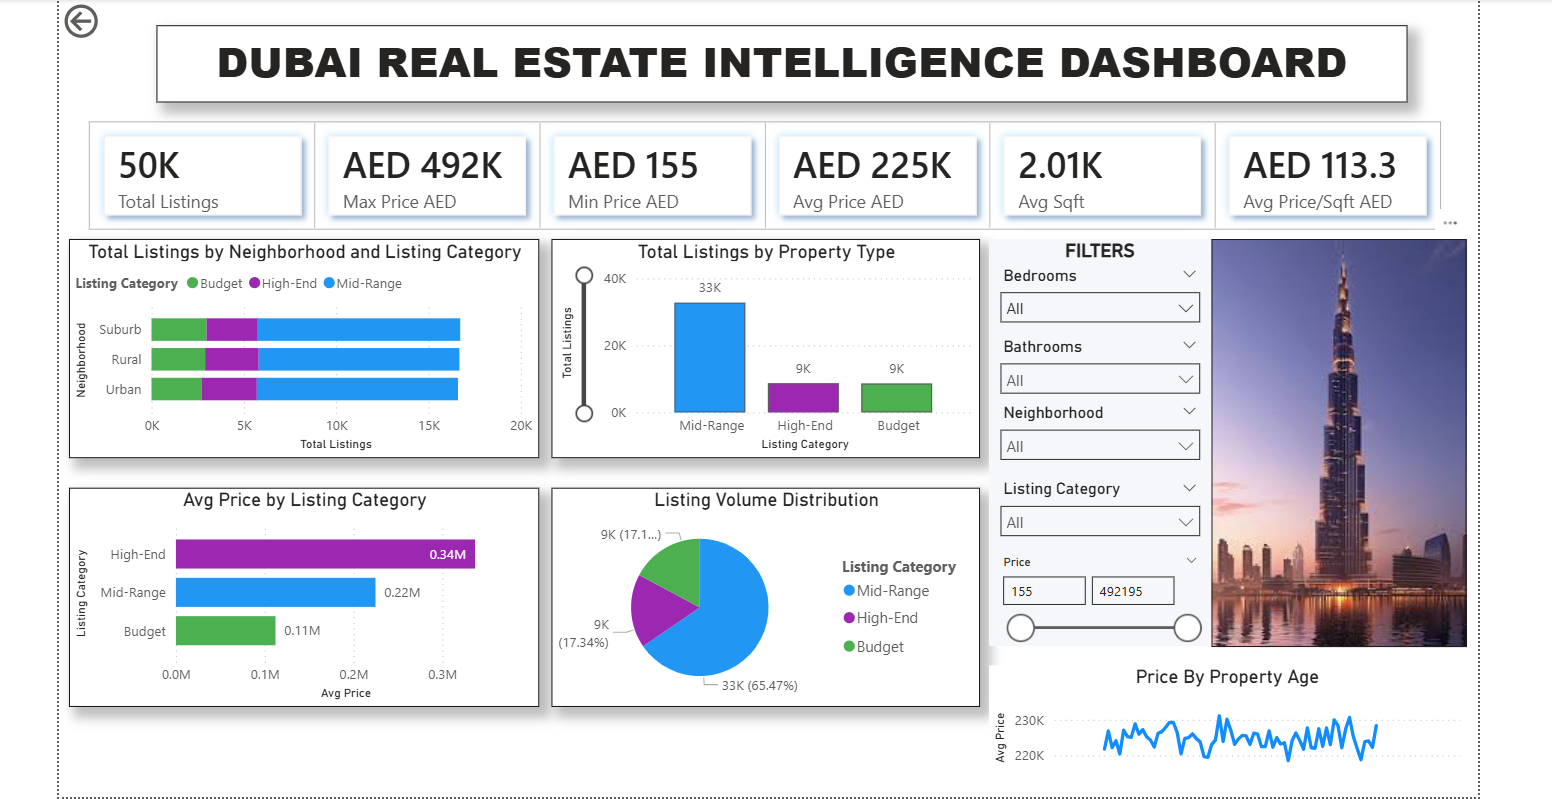

This screenshot's page, from the dashboard's own definition file:
{"tool":"powerbi","page":{"name":"Page 1","canvas":[1280,720],"ordinal":0},"visuals":[{"type":"cardVisual","fields":{"Data":["housing_price_dataset.Total Listings","housing_price_dataset.Max Price AED","housing_price_dataset.Min Price AED","housing_price_dataset.Avg Price AED","housing_price_dataset.Avg Sqft","housing_price_dataset.Avg Price/Sqft AED"]},"box":[10,93.8,1258.8,131.2],"z":0},{"type":"textbox","box":[88.3,23.6,1128.3,69.7],"z":1000},{"type":"barChart","fields":{"Category":["housing_price_dataset.Neighborhood"],"Series":["housing_price_dataset.Listing Category"],"Y":["housing_price_dataset.Total Listings"]},"box":[8.8,216.2,423.8,197.5],"z":2000},{"type":"clusteredBarChart","title":"Avg Price by Listing Category","fields":{"Category":["housing_price_dataset.Listing Category"],"Y":["housing_price_dataset.Avg Price"]},"box":[8.8,441.2,423.8,197.5],"z":3000},{"type":"columnChart","title":"Total Listings by Property Type","fields":{"Category":["housing_price_dataset.Listing Category"],"Y":["housing_price_dataset.Total Listings"]},"box":[443.8,216.2,386.2,197.5],"z":4000},{"type":"slicer","title":"FILTERS","fields":{"Values":["housing_price_dataset.Bedrooms"]},"box":[838.8,216.2,200,83.8],"z":5000},{"type":"actionButton","box":[0,0,100,40],"z":6000},{"type":"pieChart","title":"Listing Volume Distribution","fields":{"Category":["housing_price_dataset.Listing Category"],"Y":["housing_price_dataset.Total Listings"]},"box":[443.8,441.2,386.2,197.5],"z":7000},{"type":"slicer","fields":{"Values":["housing_price_dataset.Bathrooms"]},"box":[838.8,300,200,197.5],"z":8000},{"type":"slicer","fields":{"Values":["housing_price_dataset.Neighborhood"]},"box":[838.8,360,200,68.8],"z":9000},{"type":"slicer","fields":{"Values":["housing_price_dataset.Listing Category"]},"box":[838.8,428.8,200,63.8],"z":10000},{"type":"slicer","fields":{"Values":["housing_price_dataset.Price"]},"box":[838.8,496.2,200,87.5],"z":11000},{"type":"lineChart","title":"Price By Property Age","fields":{"Category":["housing_price_dataset.YearBuilt"],"Y":["housing_price_dataset.Avg Price"]},"box":[838.8,601.2,430,103.8],"z":12000},{"type":"image","box":[1038.8,216.8,230.5,367.8],"z":13000}]}

Visuals, with their boxes in screenshot pixels (x1, y1, x2, y2):
cardVisual - housing_price_dataset.Total Listings x housing_price_dataset.Max Price AED: bbox=(80, 103, 1459, 247)
textbox: bbox=(165, 26, 1402, 102)
barChart - housing_price_dataset.Neighborhood x housing_price_dataset.Listing Category: bbox=(78, 237, 543, 453)
"Avg Price by Listing Category" clusteredBarChart: bbox=(78, 484, 543, 700)
"Total Listings by Property Type" columnChart: bbox=(555, 237, 978, 453)
"FILTERS" slicer: bbox=(988, 237, 1207, 329)
actionButton: bbox=(69, 0, 178, 44)
"Listing Volume Distribution" pieChart: bbox=(555, 484, 978, 700)
slicer - housing_price_dataset.Bathrooms: bbox=(988, 329, 1207, 545)
slicer - housing_price_dataset.Neighborhood: bbox=(988, 395, 1207, 470)
slicer - housing_price_dataset.Listing Category: bbox=(988, 470, 1207, 540)
slicer - housing_price_dataset.Price: bbox=(988, 544, 1207, 640)
"Price By Property Age" lineChart: bbox=(988, 659, 1459, 773)
image: bbox=(1207, 238, 1460, 641)
